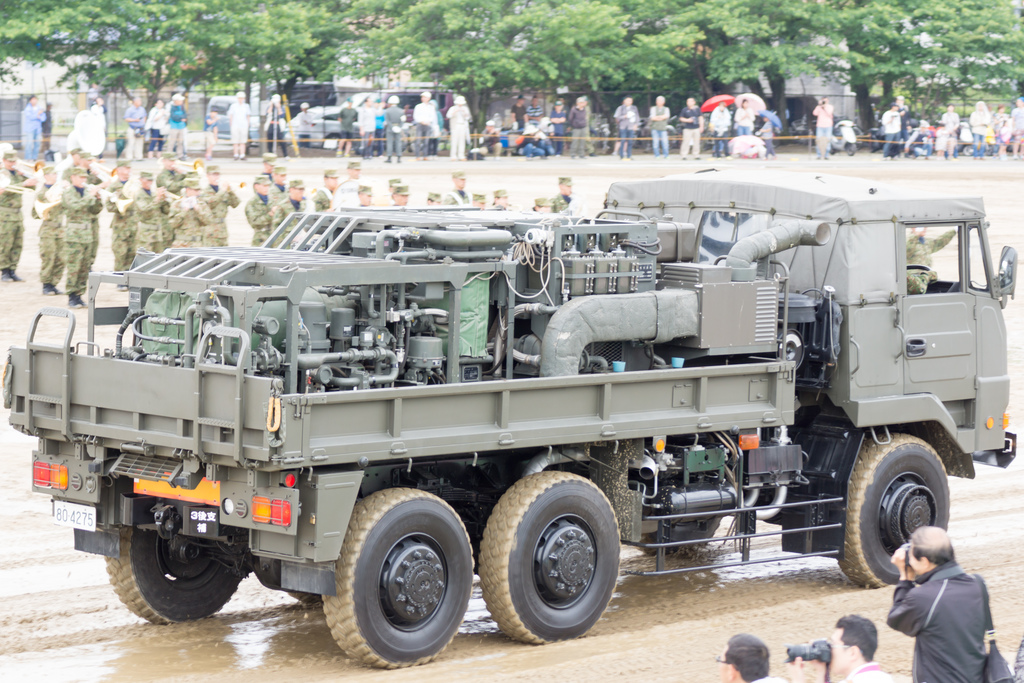truck: (5, 153, 1014, 659)
